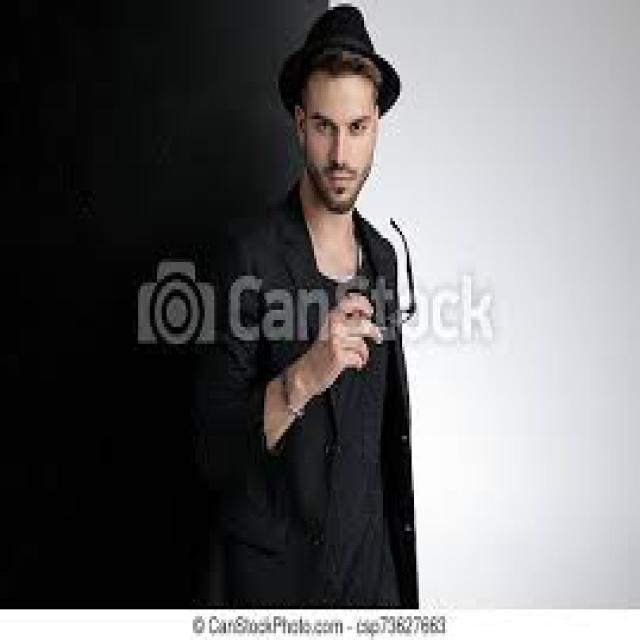hat: (281, 7, 404, 211)
